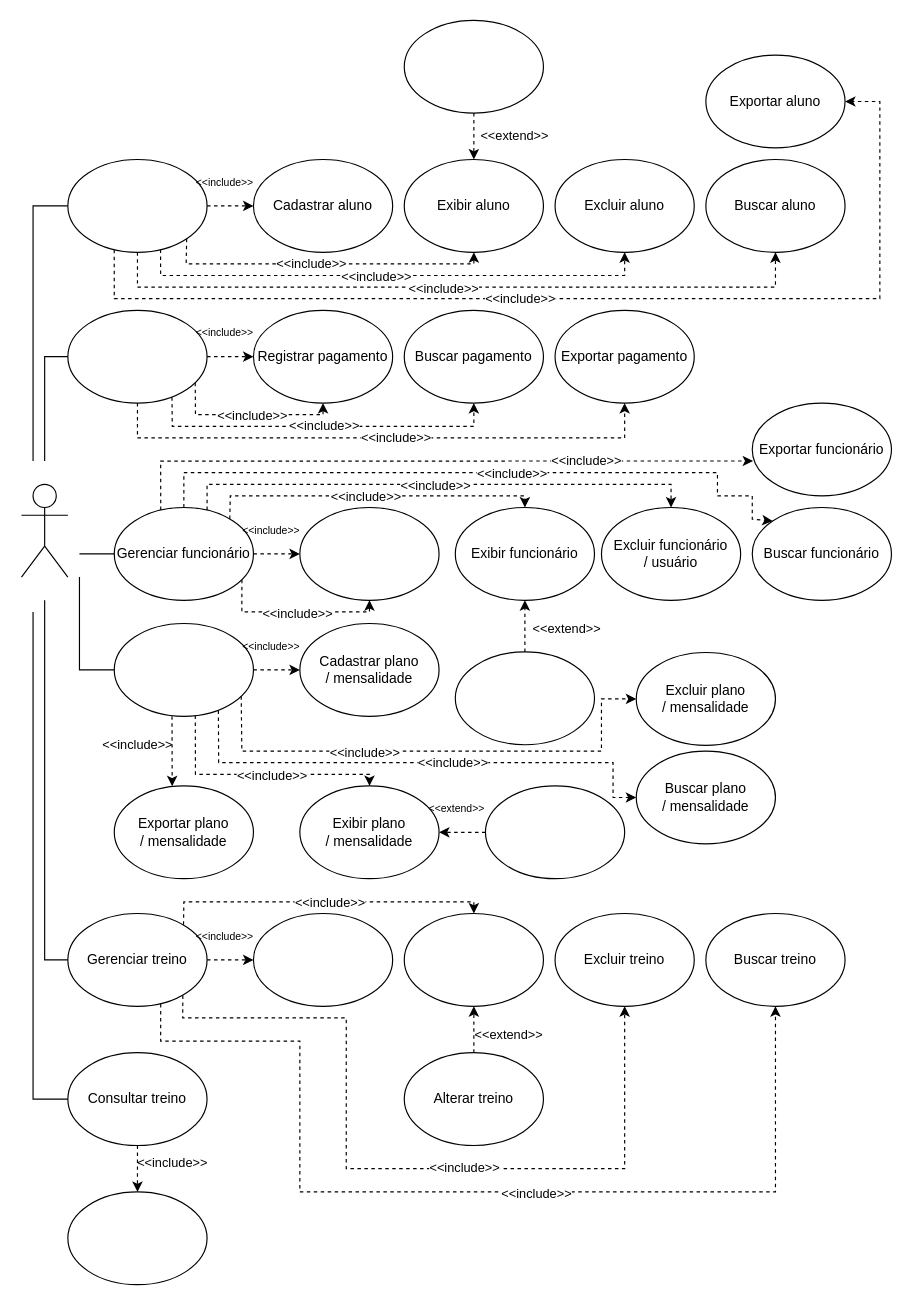
Some shapes in this 912 by 1305 pixel diagram are drawn without their labels. The shapes that lost their labels are listed below. From the top down, each one's centre as x and y in pixels, then its label:
At (x=473, y=66): "Alterar aluno".
At (x=137, y=205): "Gerenciar aluno".
At (x=137, y=356): "Gerenciar pagamento".
At (x=44, y=530): "Gerente".
At (x=369, y=553): "Cadastrar funcionário / usuário".
At (x=183, y=669): "Gerenciar plano / mensalidade".
At (x=524, y=698): "Alterar funcionário / usuário".
At (x=554, y=832): "Alterar plano / mensalidade".
At (x=322, y=959): "Cadastrar treino".
At (x=473, y=959): "Exibir treino".
At (x=137, y=1238): "Emitir ficha de treino".
